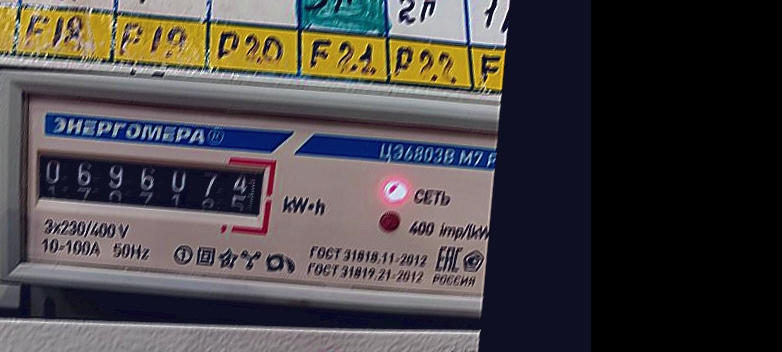0: (43, 156, 65, 183), (170, 165, 189, 192)
4: (232, 169, 250, 193)
5: (230, 192, 248, 214)
6: (75, 158, 96, 185), (138, 162, 158, 190)
7: (202, 169, 220, 196)
9: (107, 160, 126, 188)
screen: (22, 135, 282, 237)
